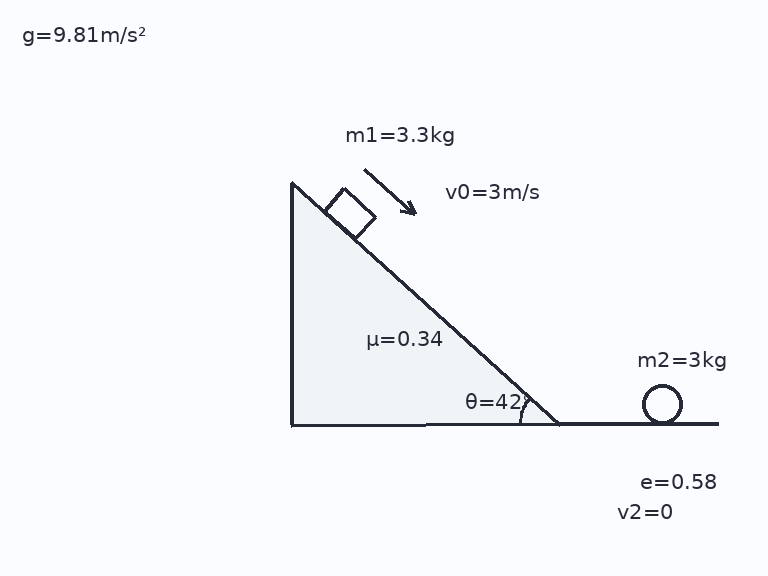ball: (640, 382, 684, 426)
block: (322, 187, 377, 241)
ramp: (290, 180, 562, 426)
